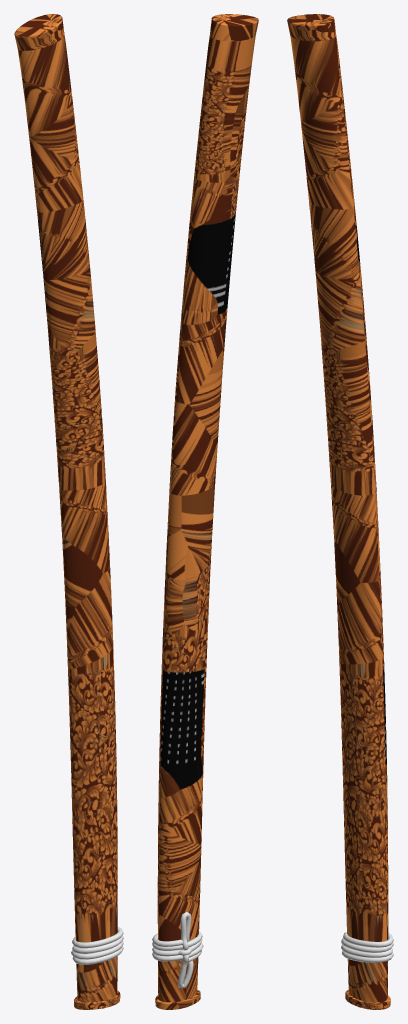
The model's file is scheide.fbx.
The picture shows the model from 3 angles, left to right: view 1: azimuth 30°, elevation 25°; view 2: azimuth 210°, elevation 25°; view 3: azimuth 330°, elevation 25°; orthographic projection. The views are drawn at different scales.
Visible parts, largest first — view 1: Katana.001, Katana.002, BezierCurve.001, Katana.003; view 2: Katana.001, BezierCurve.001, Katana.002, Katana.003; view 3: Katana.001, Katana.002, BezierCurve.001, Katana.003.
Part boxes in pixels (box(x1,y1,x2,y2)): Katana.001: box(17, 35, 117, 1002); Katana.002: box(14, 14, 64, 50); BezierCurve.001: box(71, 927, 123, 964); Katana.003: box(74, 990, 120, 1009); Katana.001: box(157, 35, 255, 1002); BezierCurve.001: box(152, 912, 203, 988); Katana.002: box(210, 14, 258, 41); Katana.003: box(155, 990, 200, 1009); Katana.001: box(290, 35, 388, 1002); Katana.002: box(287, 14, 336, 41); BezierCurve.001: box(341, 932, 393, 962); Katana.003: box(345, 990, 390, 1009).
Size of the model in its own units: 40.51 by 362 by 13.73.
